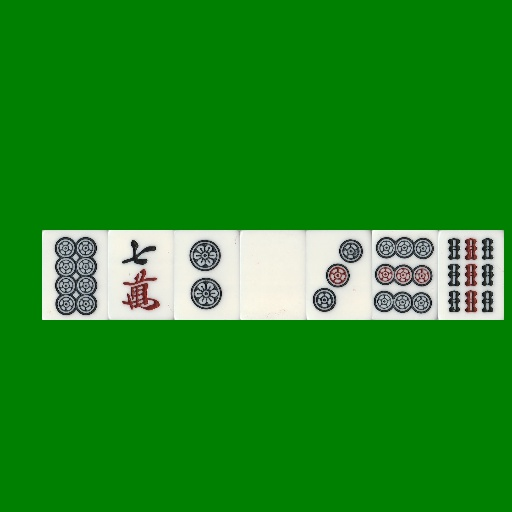2p: (174, 230, 240, 320)
3p: (306, 230, 372, 320)
7m: (108, 230, 174, 320)
8p: (42, 230, 108, 320)
9p: (372, 230, 438, 320)
9s: (438, 230, 504, 320)
white: (240, 230, 306, 320)
